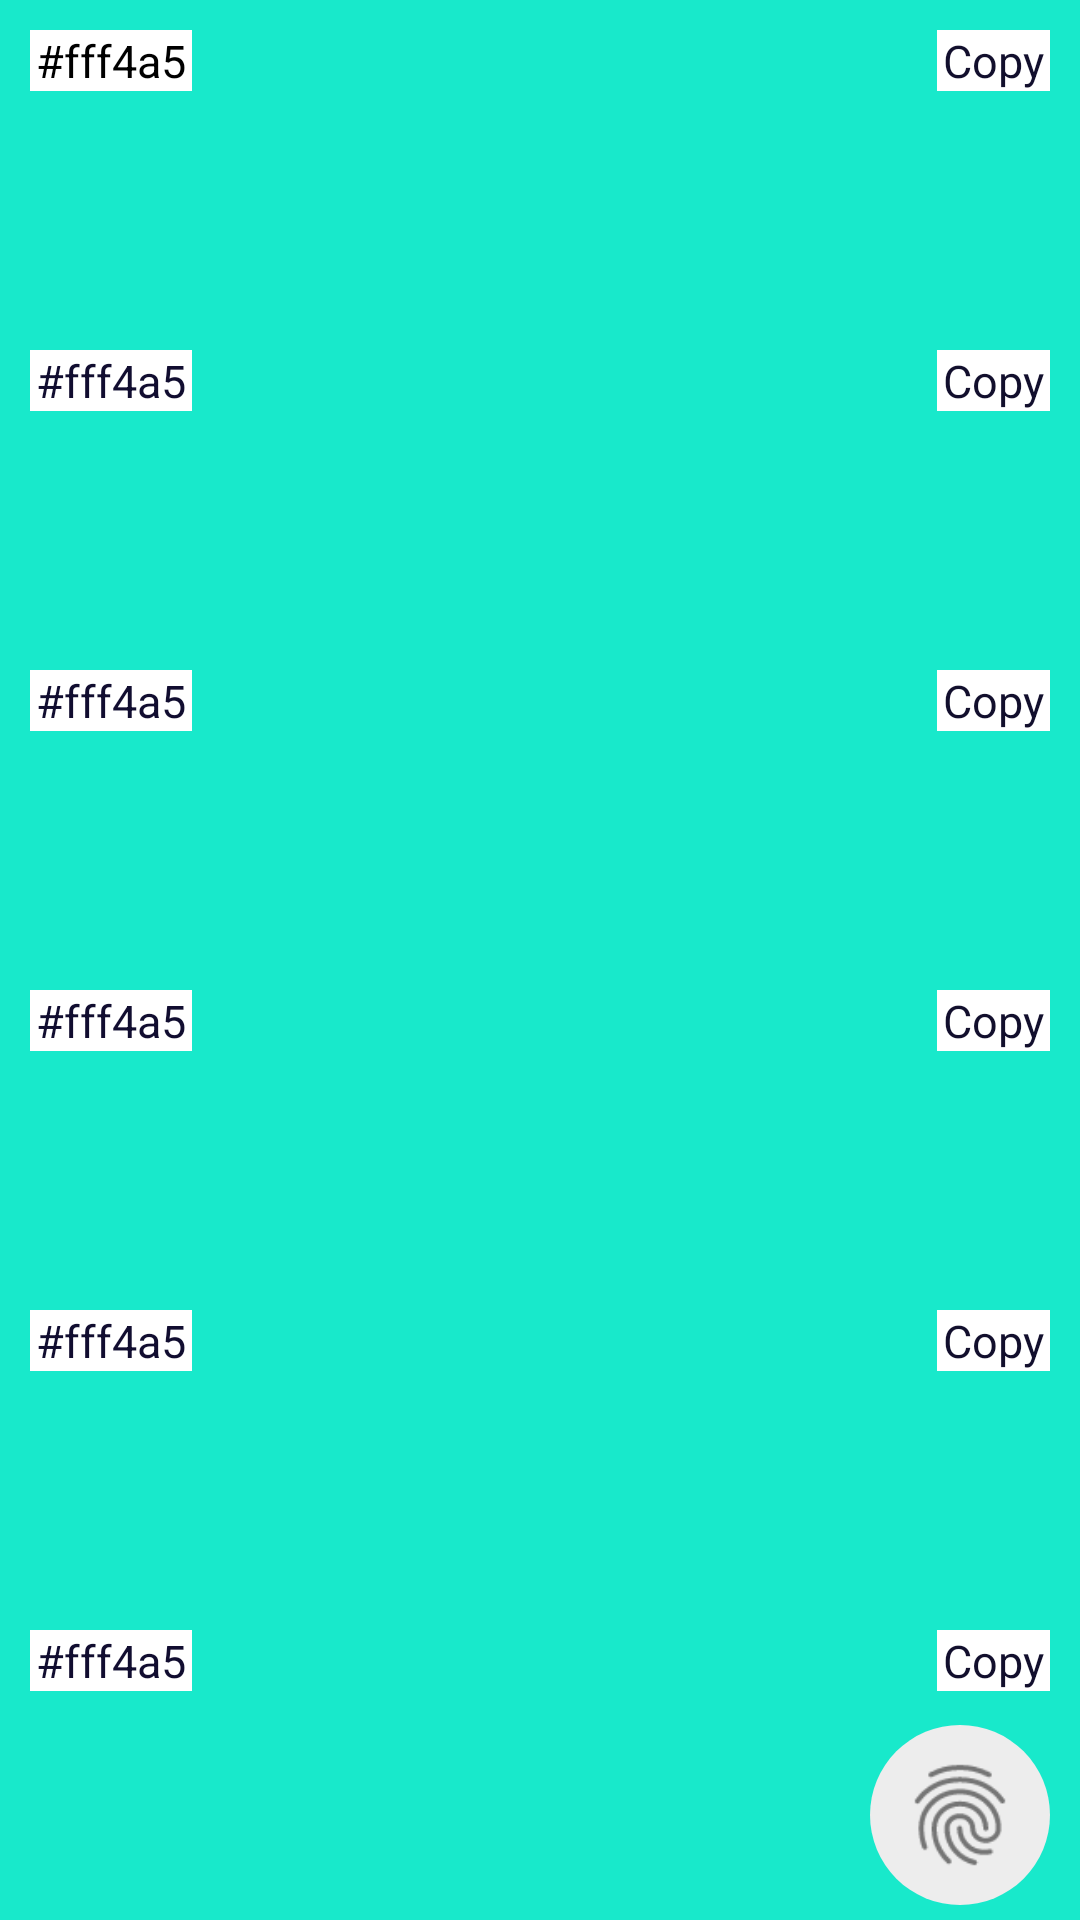

Locate icon controls on the screen. Image size 1080 x 1920, boxes as (x1, y1, x2, y2).
fingerprint: (870, 1725, 1050, 1905)
